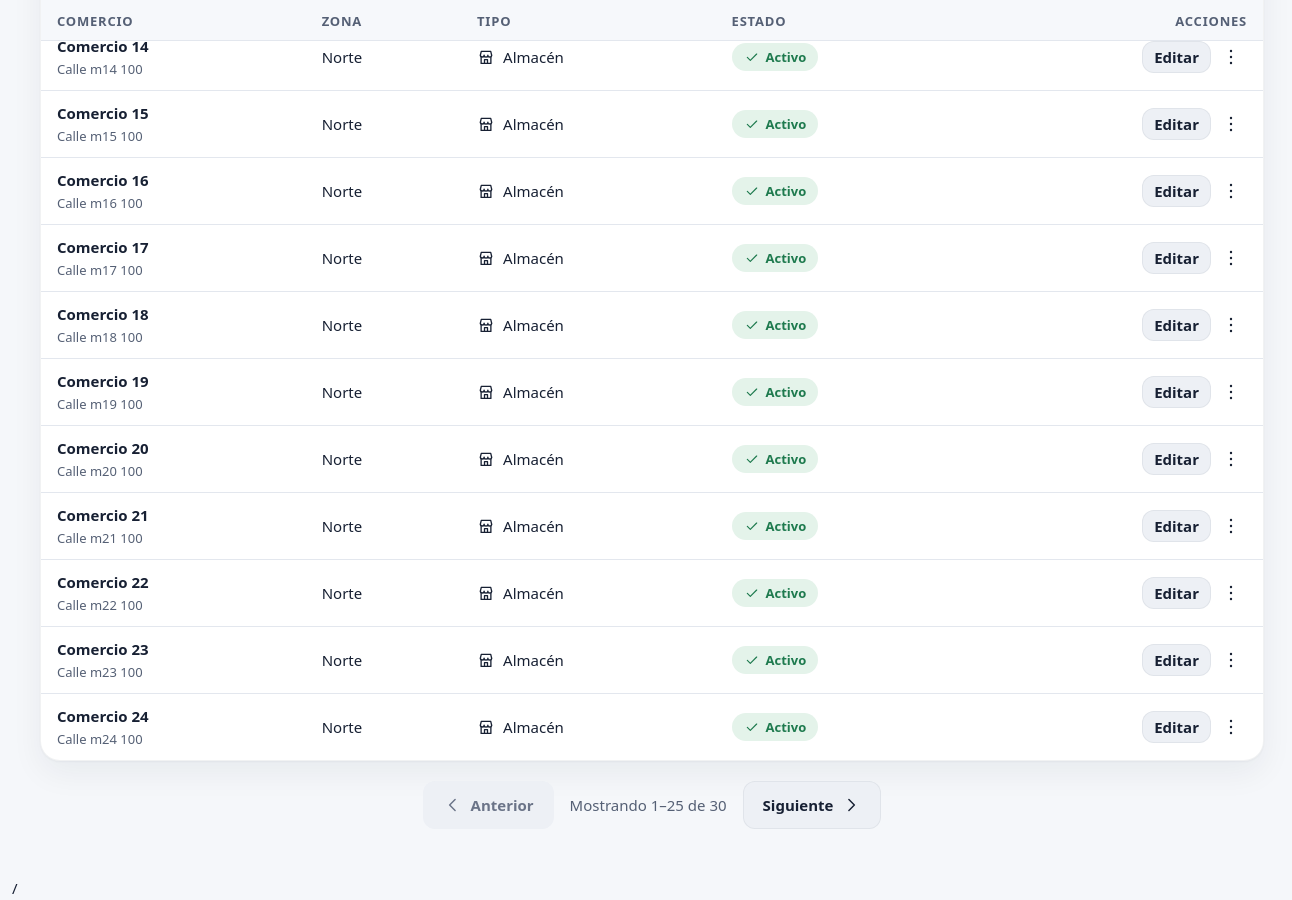
Test: ComerciosPage list › pages on the client with "Mostrando X–Y de N"
The width and height of the screenshot is (1292, 900).
(page scrolled)
Expected: the text "Mostrando 1–25 de 30" is shown, [570,794,727,817]
Click the button "Siguiente".
click(812, 806)  # box [743,782,882,830]
(page scrolled)
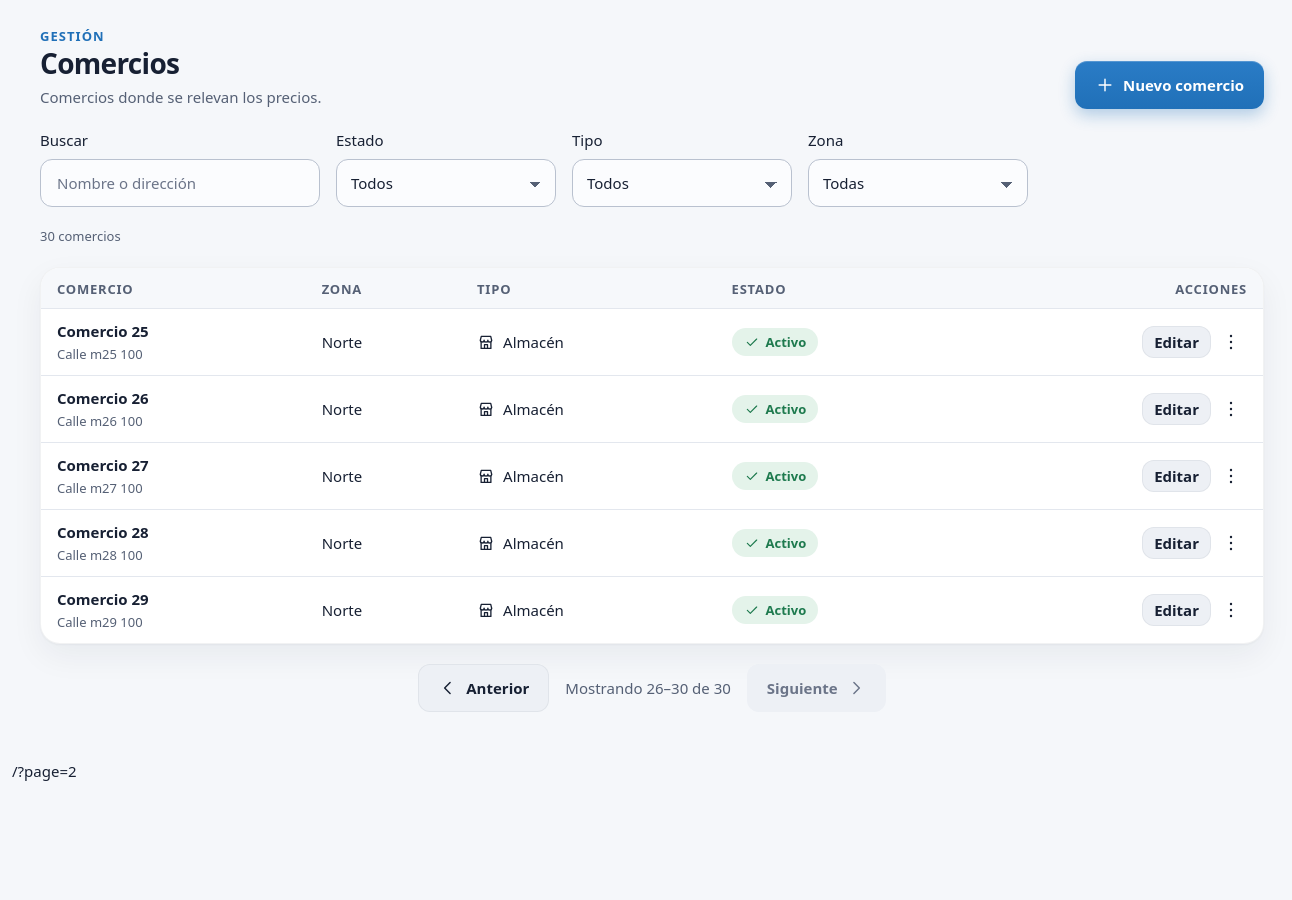
Expected: the text "Mostrando 26–30 de 30" is shown, [565,677,731,700]
